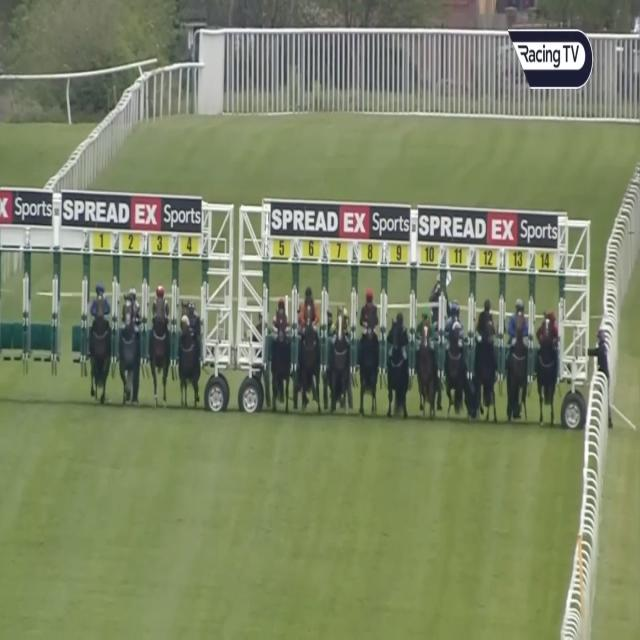horses-racing: (505, 294, 528, 426), (148, 282, 172, 407), (356, 284, 378, 420), (384, 301, 410, 413), (176, 293, 200, 407), (443, 299, 466, 414), (297, 283, 317, 414), (120, 286, 141, 405), (416, 305, 438, 417), (270, 300, 293, 406), (90, 280, 110, 400), (330, 301, 351, 410), (540, 301, 556, 419), (478, 296, 492, 420)
